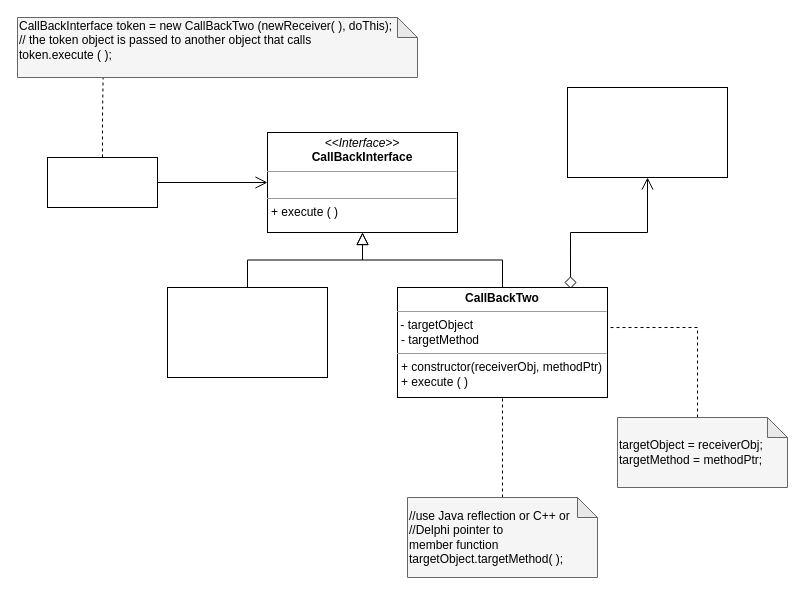
The diagram is 805 pixels wide and 595 high, and some of its shapes have lost their labels. The centre of each missing label's shape, as x and y in pixels:
"CallBackOne + field: Type + method(): Type" goes at point 247,332.
"Client" goes at point 102,182.
"Receiver + doThis ( ) + doThat ( )" goes at point 647,132.
